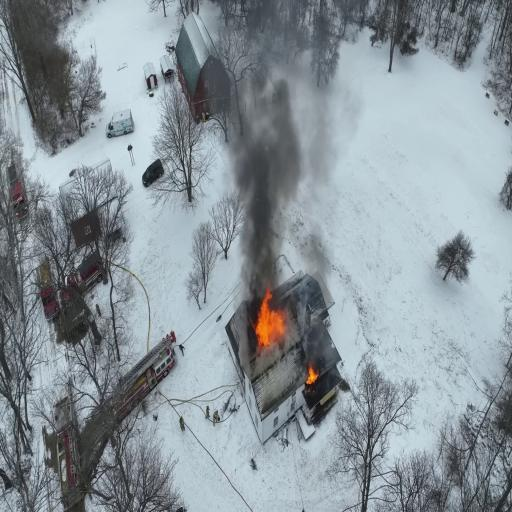fire: (256, 288, 285, 346), (307, 362, 322, 390)
smoke: (252, 140, 284, 283)
